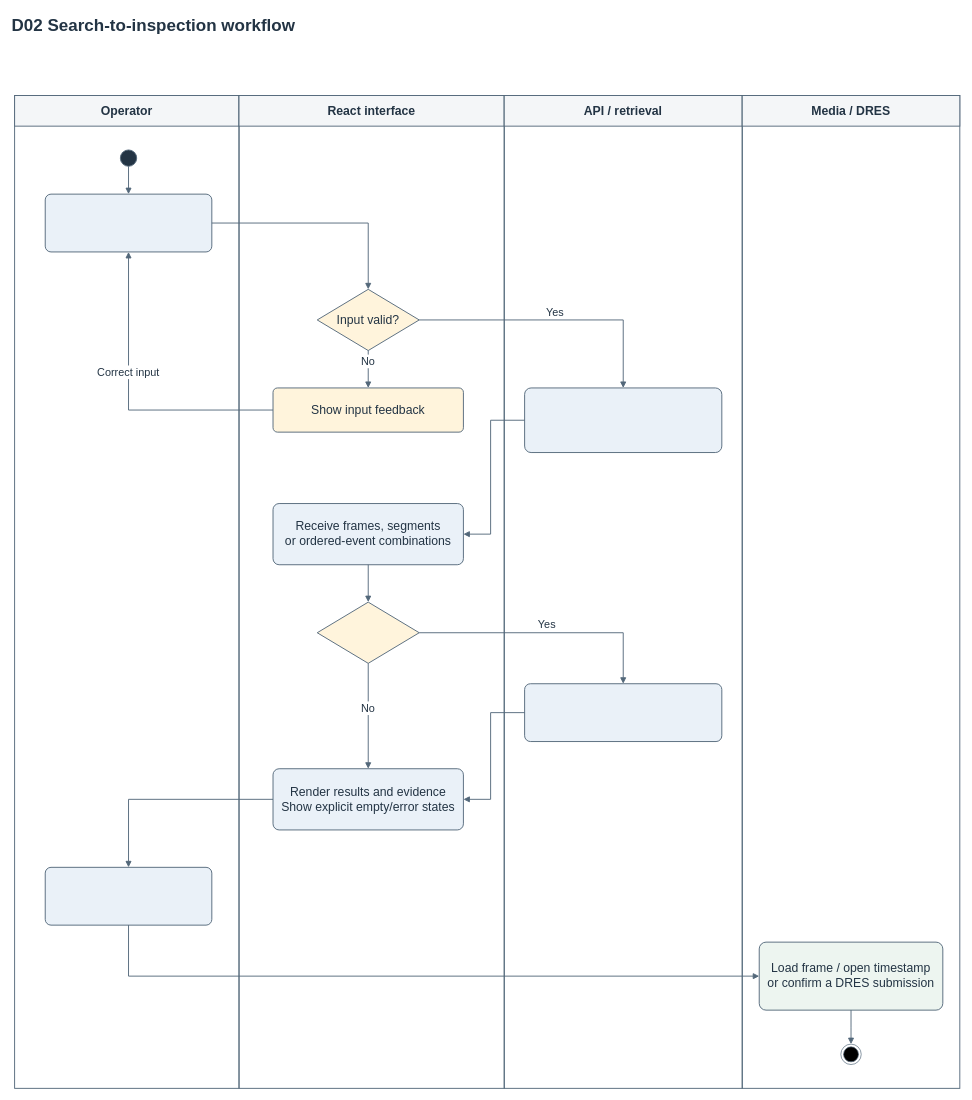
This 972x1100 diagram has some shape labels left out. Each missing label, with the centre of its shape:
"Choose a mode and enter query / constraints" goes at point 128,222.
"Choose a result and inspect its context" goes at point 128,896.
"Dispatch selected search Visual · metadata · objects · TRAKE" goes at point 623,420.
"Filter current candidates Preserve semantic order" goes at point 623,712.
"Hybrid filter?" goes at point 367,632.
